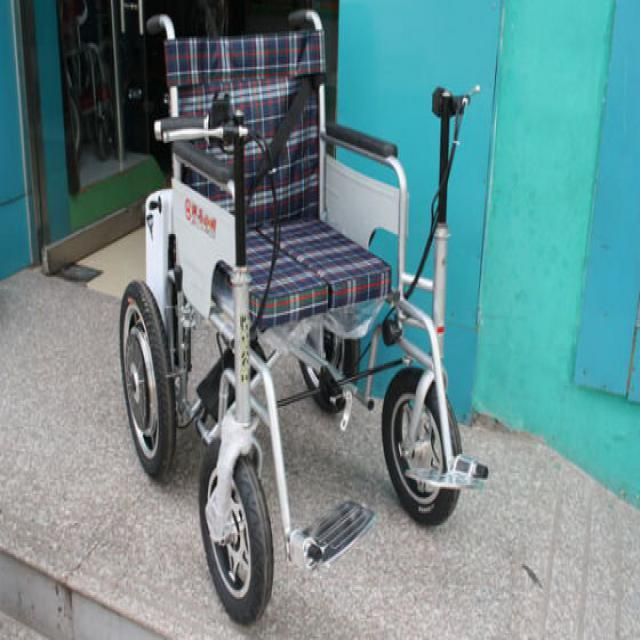wheelchair: (86, 9, 487, 636)
